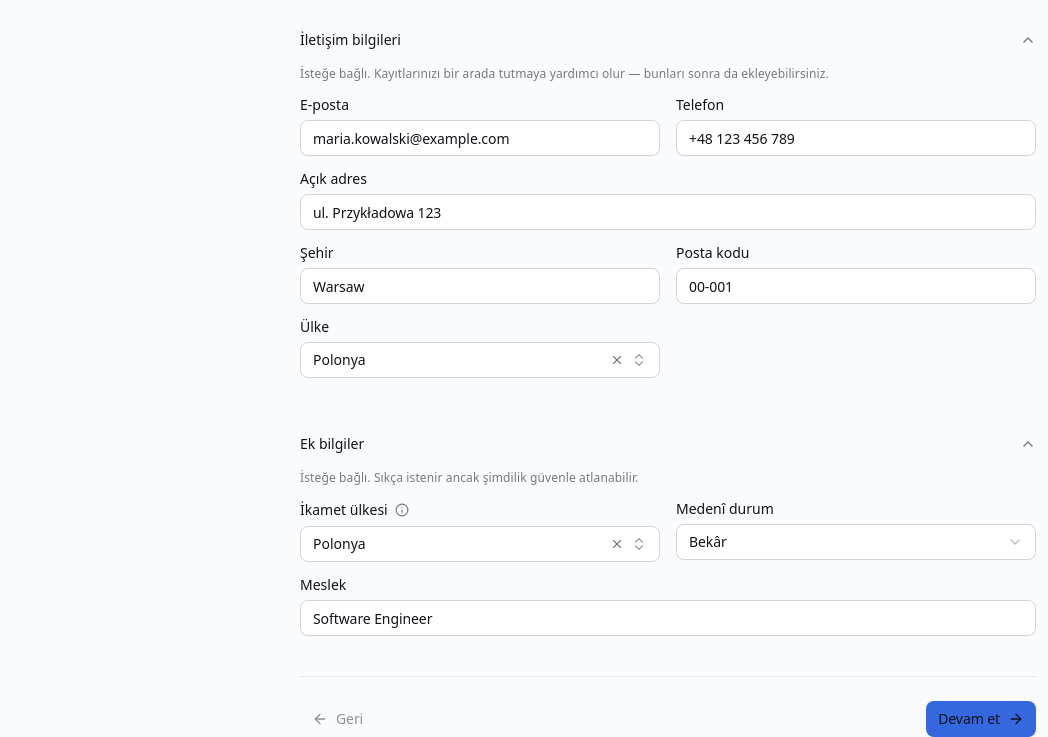
Scenario: Applicant wizard — progressive disclosure & guidance › reveals the previous-visa editor only after choosing "Yes"
The width and height of the screenshot is (1048, 737).
(page scrolled)
personal → passport → previous visas
Click the button "Devam et".
click(981, 719)  # box x1=926 y1=701 x2=1036 y2=736
(page scrolled)
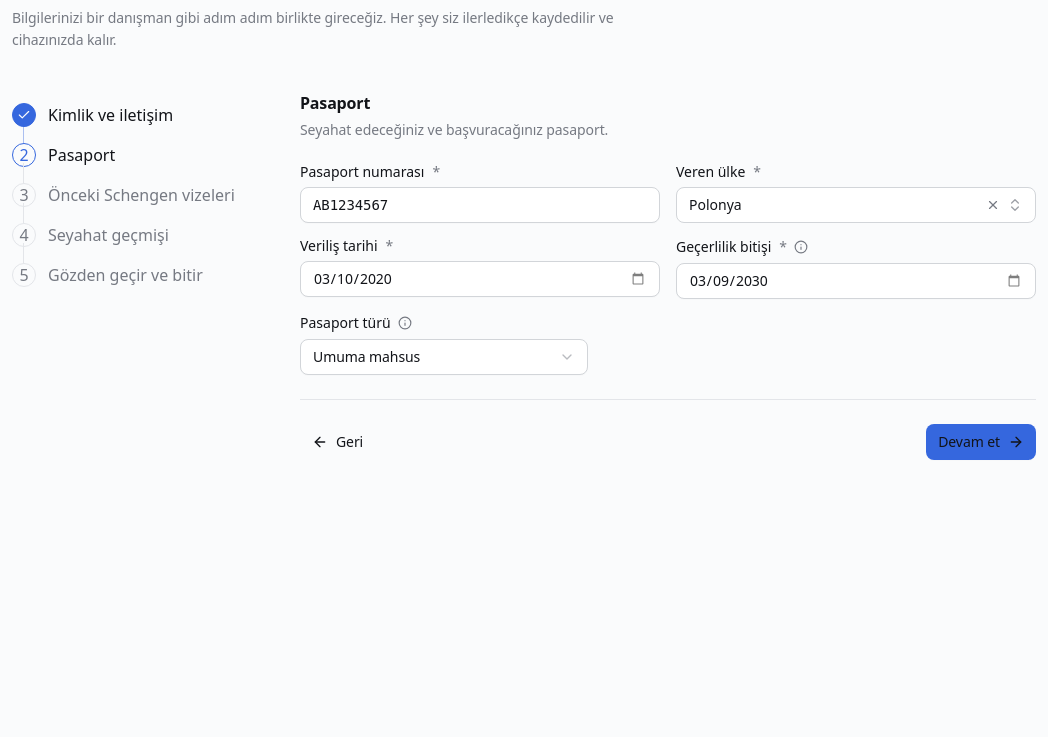
Click the button "Devam et".
click(981, 442)  # box x1=926 y1=424 x2=1036 y2=460
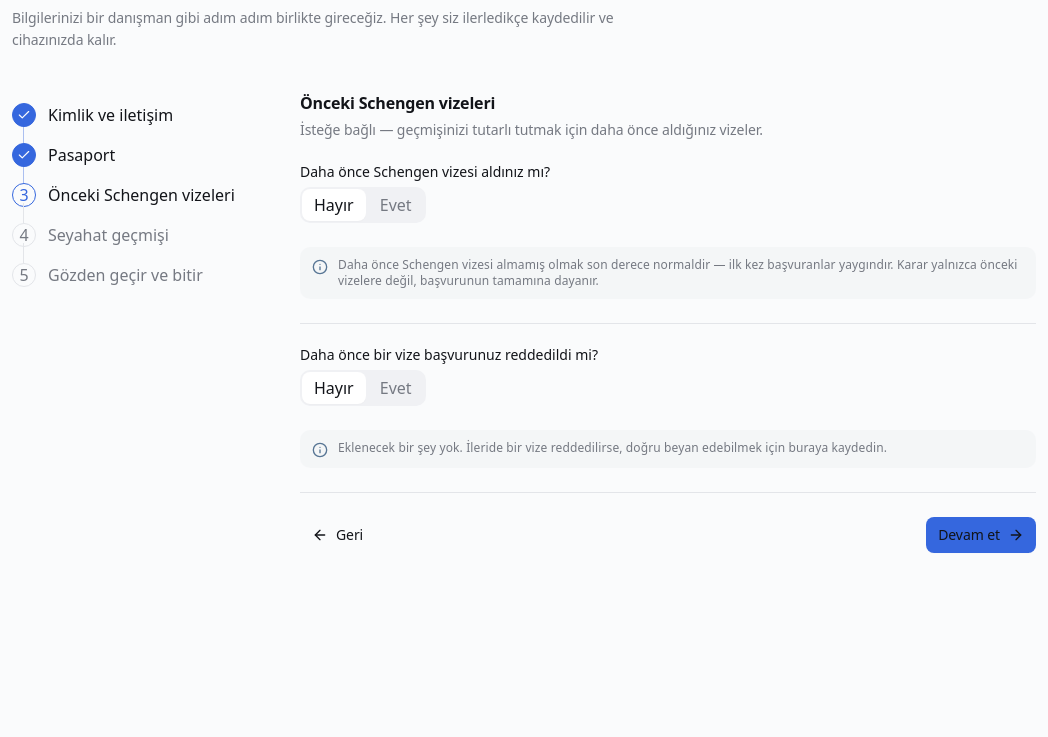
Expected: the button "Vize ekle" is not shown
Now the text "Daha önce Schengen vizesi almamış olmak son derece normaldir — ilk kez başvuranlar yaygındır. Karar yalnızca önceki vize" is shown, box x1=338 y1=256 x2=1018 y2=289
Choosing "Yes" reveals the editor.
Click the radio button labelled "Evet" below "Daha önce Schengen vizesi aldınız mı?".
click(396, 205)  # box x1=368 y1=189 x2=424 y2=221
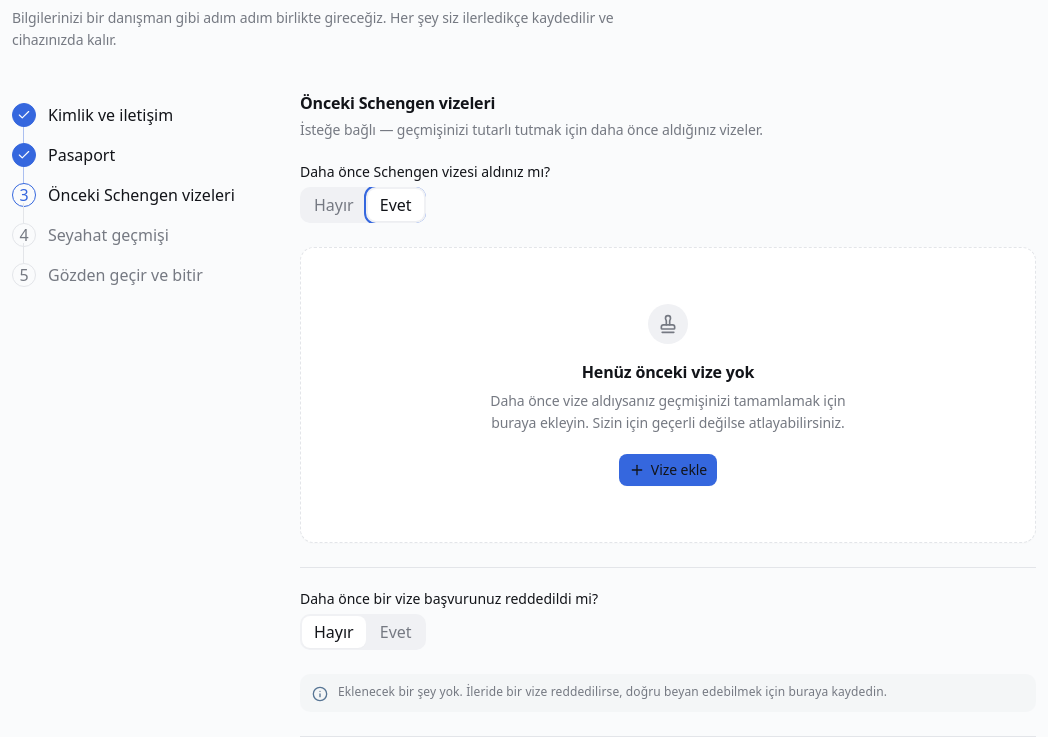
Now the button "Vize ekle" is shown, box x1=619 y1=454 x2=717 y2=486
